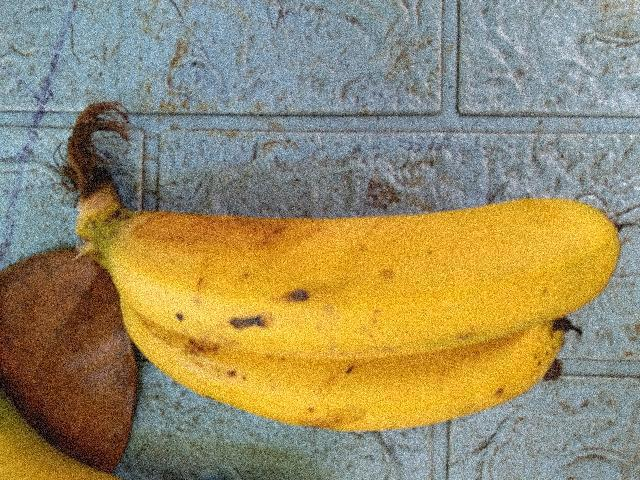ripe: (109, 185, 612, 352), (122, 305, 566, 424)
